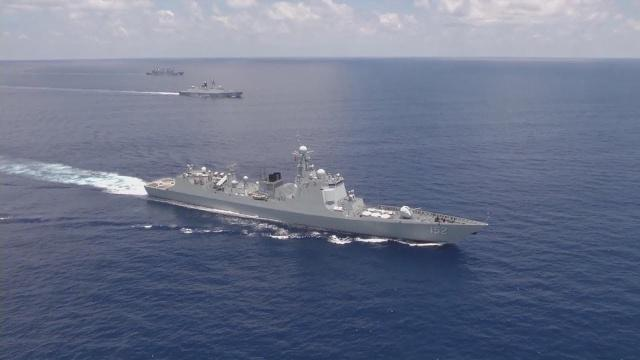warship: (138, 143, 488, 247), (170, 77, 245, 102), (148, 61, 182, 76)
